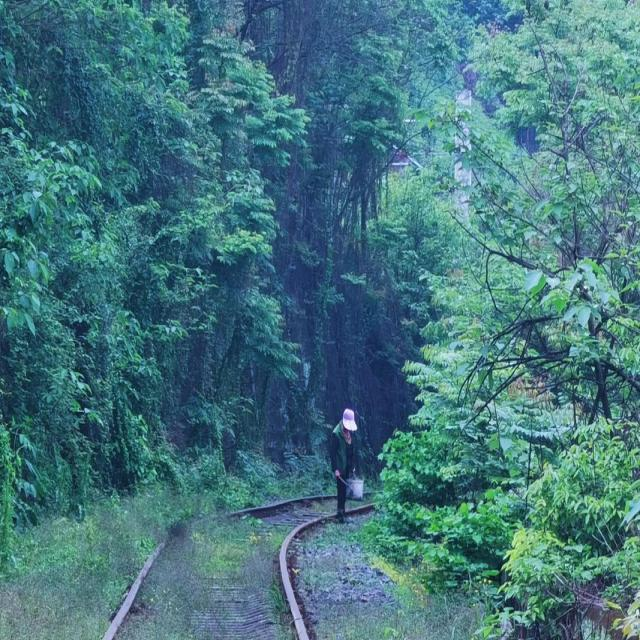people: (325, 406, 362, 524)
